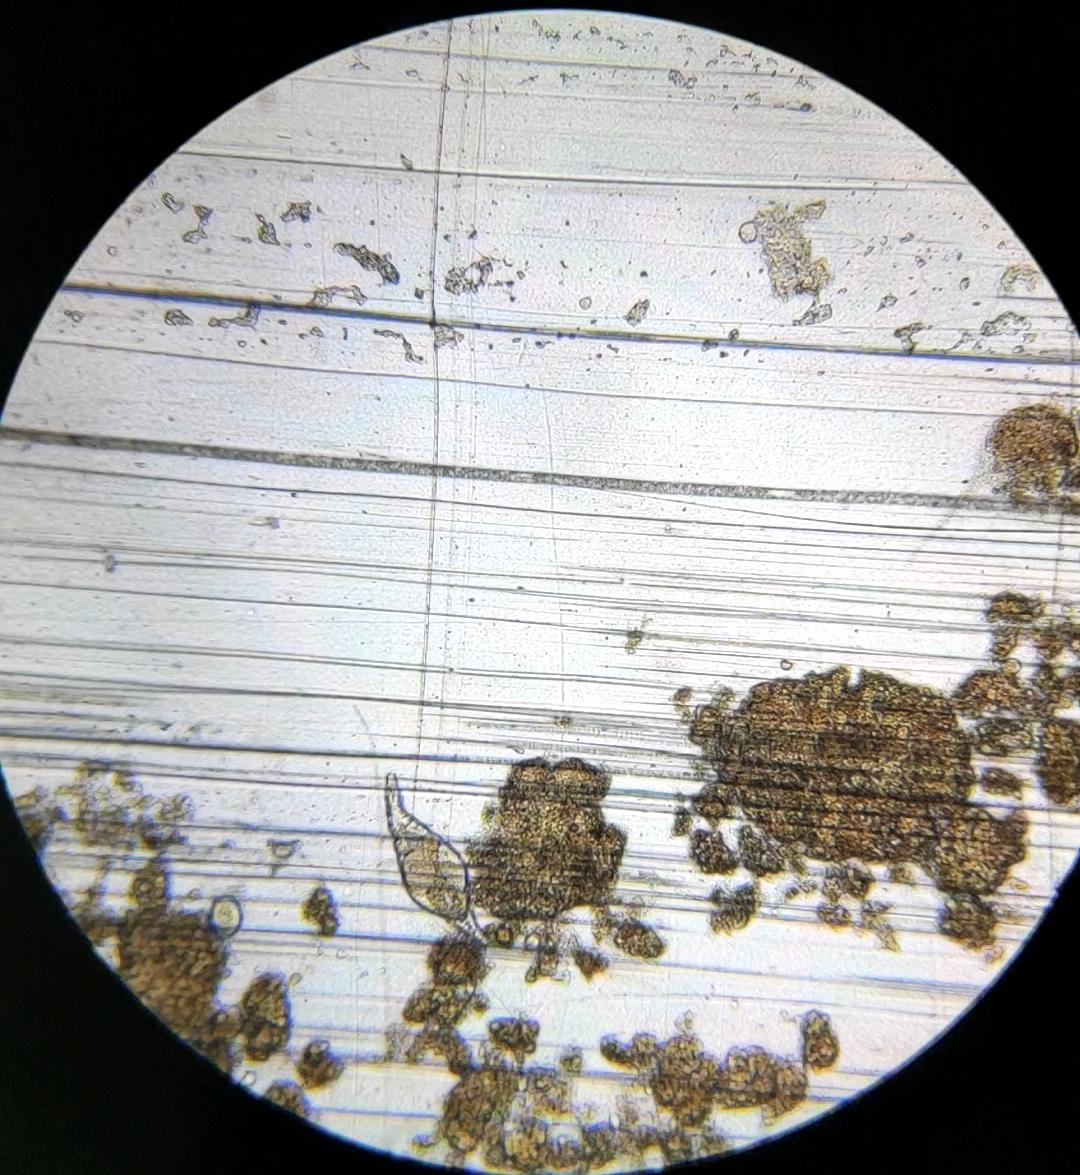Do: (385, 781, 505, 948)
